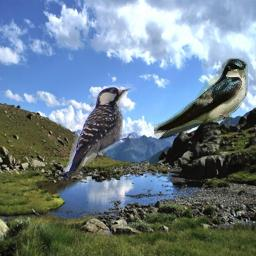Swallow: (154, 58, 248, 140)
Woodpecker: (57, 81, 138, 186)
